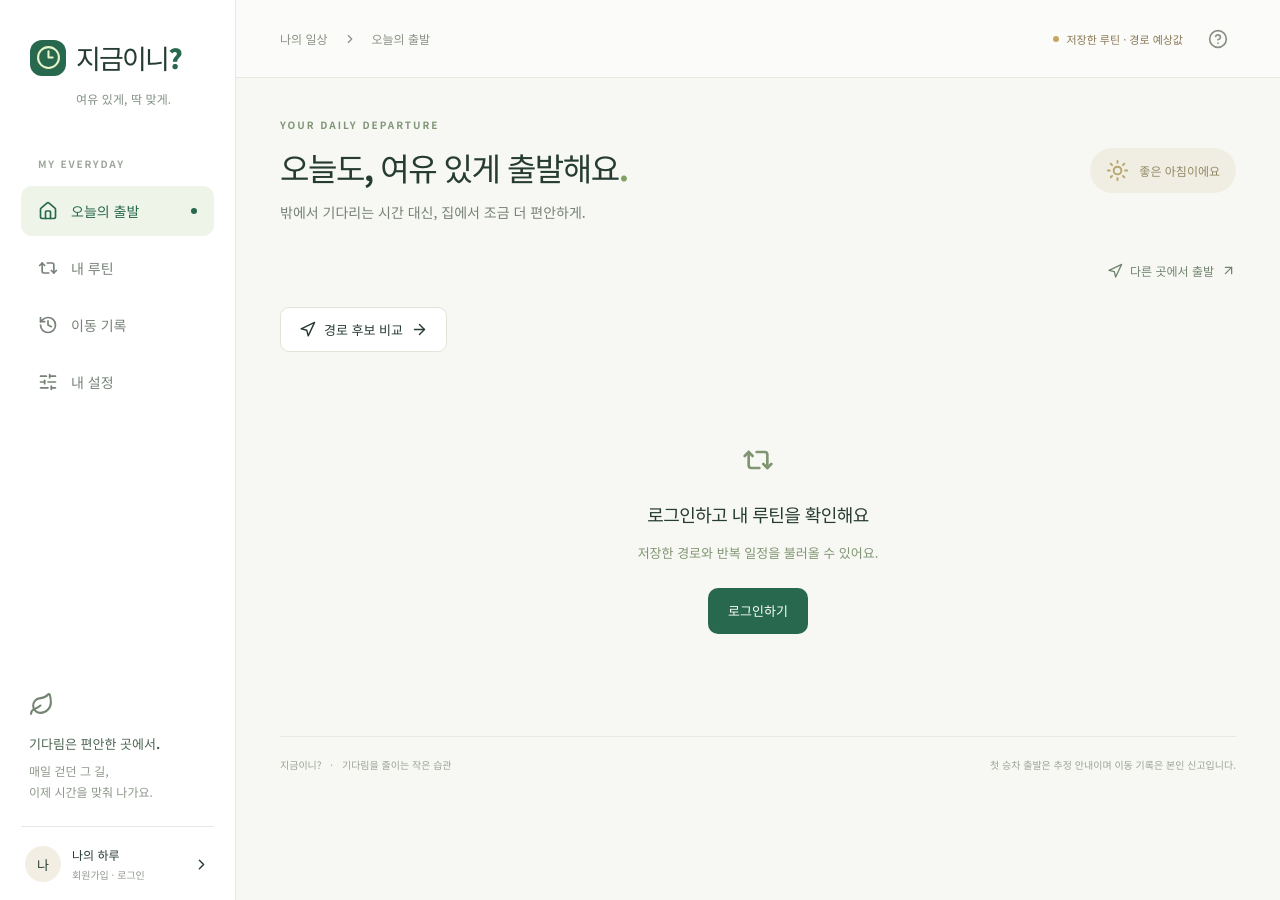
Test: handles auth expiry, malformed replies and recovery by retry
The width and height of the screenshot is (1280, 900).
Expected: the heading "로그인하고 내 루틴을 확인해요" is shown, top-left (647, 501), bottom-right (869, 527)
Click the button "내 루틴" at (118, 268), box top-left (21, 243), bottom-right (214, 293)
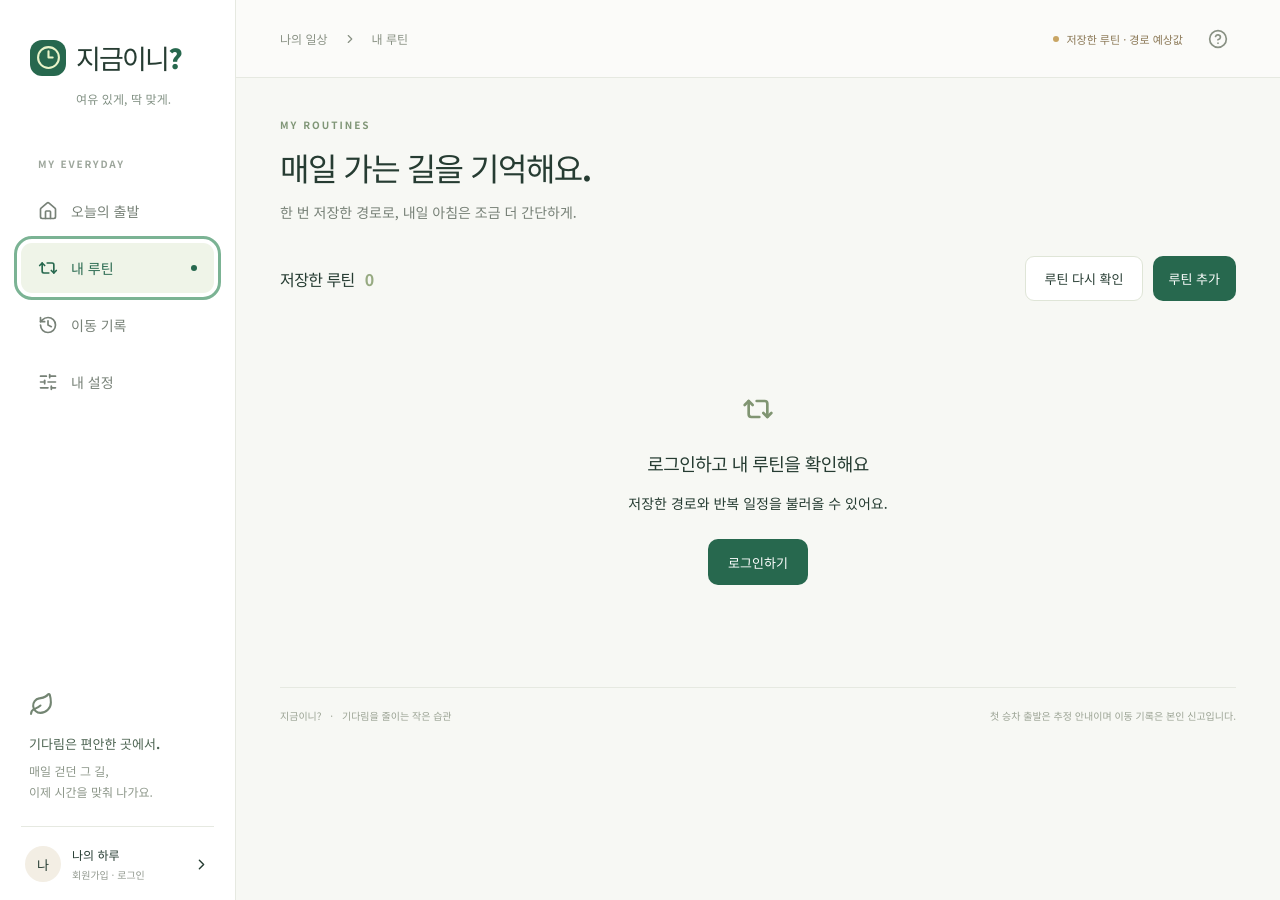
Click the button "루틴 다시 확인" at (1084, 278), box top-left (1026, 256), bottom-right (1142, 301)
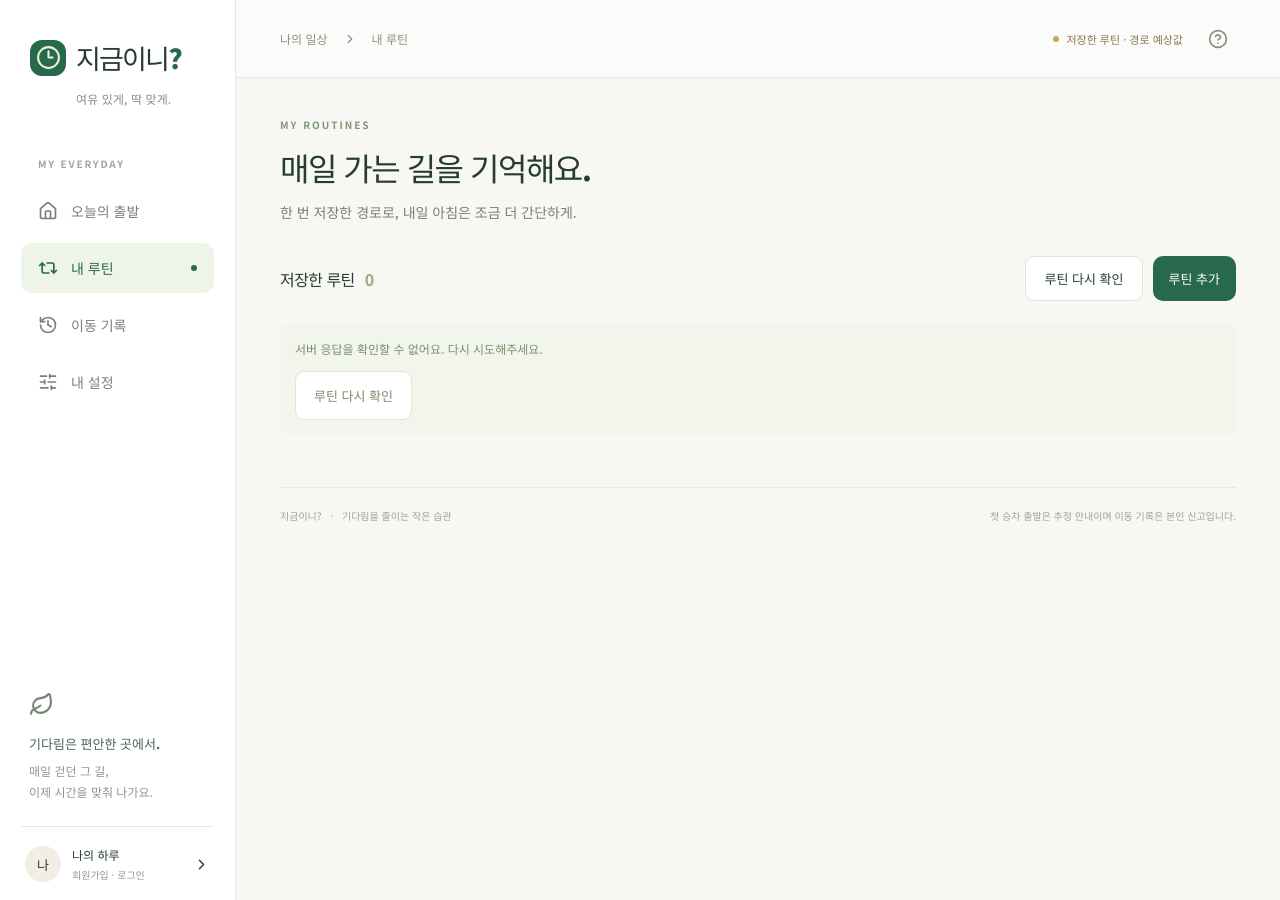
Expected: the message "서버 응답을 확인할 수 없어요. 다시 시도해주세요. 루틴 다시 확인" is shown, top-left (280, 323), bottom-right (1236, 435)
Click the 1st button "루틴 다시 확인" at (1084, 278), box top-left (1026, 256), bottom-right (1142, 301)
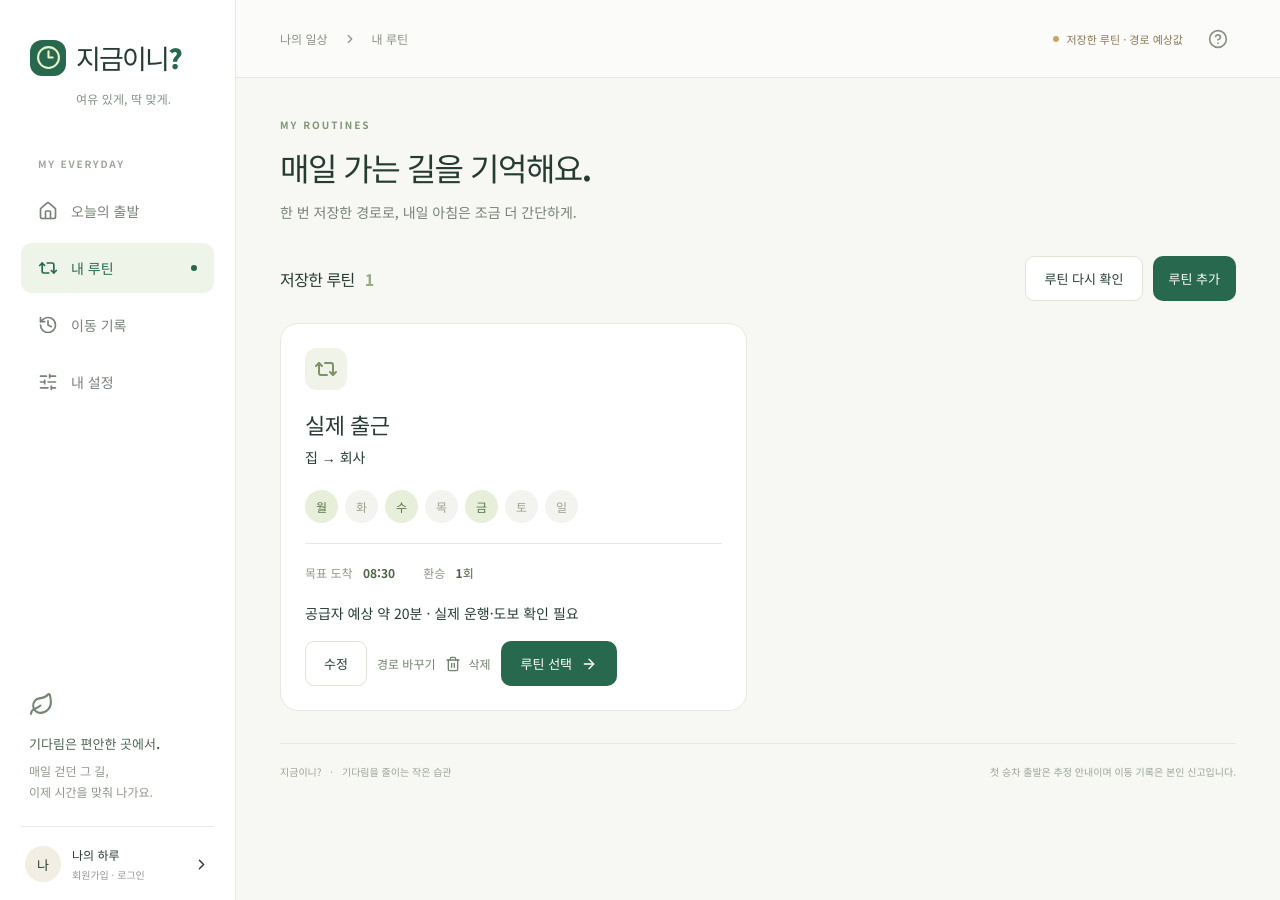
Expected: the heading "실제 출근" is shown, top-left (305, 408), bottom-right (389, 440)
